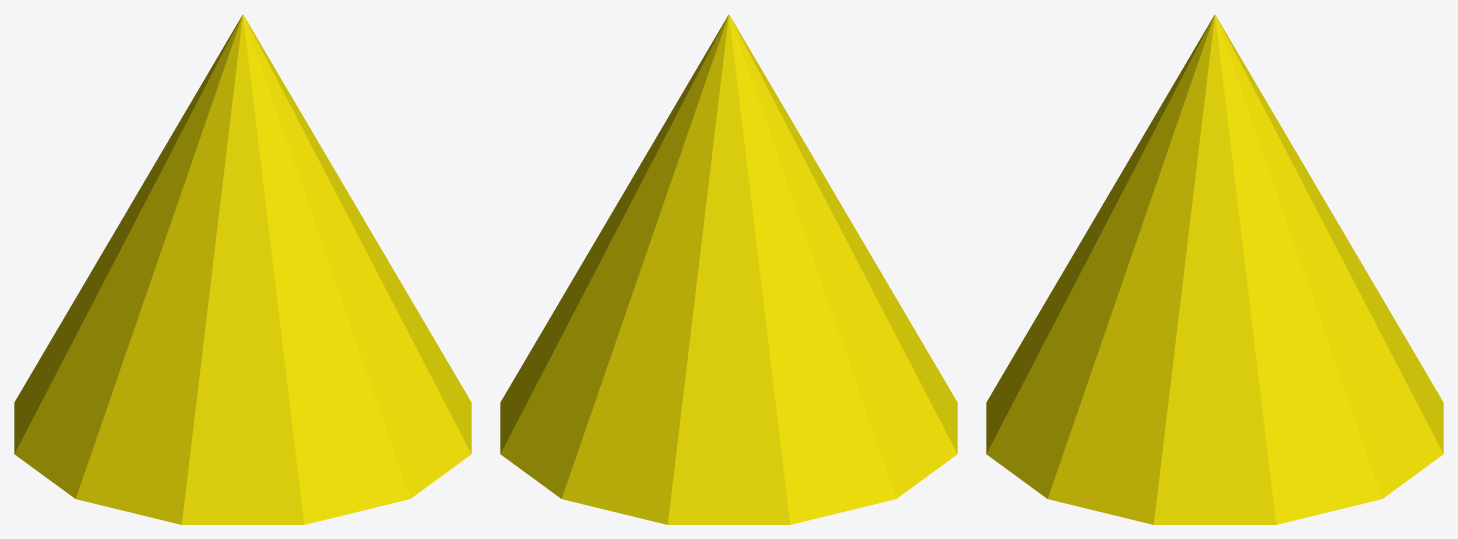
The model's file is m_boid_legendary.gltf.
3 views of the same model, side by side, from view 1: azimuth 30°, elevation 25°; view 2: azimuth 150°, elevation 25°; view 3: azimuth 270°, elevation 25° (orthographic).
Parts seen in each view (by area): view 1: cone; view 2: cone; view 3: cone.
Boxes of the visible parts, x1,y1,x2,y2 form: cone: [14, 14, 471, 524]; cone: [500, 14, 957, 524]; cone: [986, 14, 1443, 524].
Bounding box in the file's own units: 1 × 1 × 1.
Materials: 1 (1 with a texture image).
